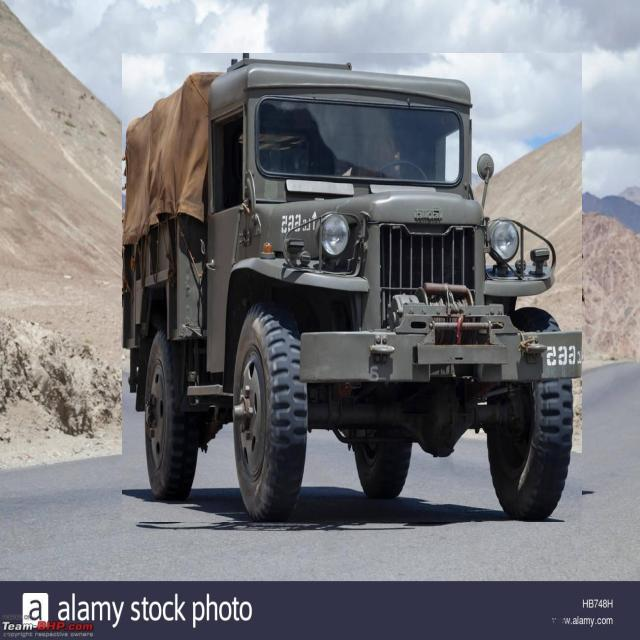truck: (122, 53, 582, 522)
